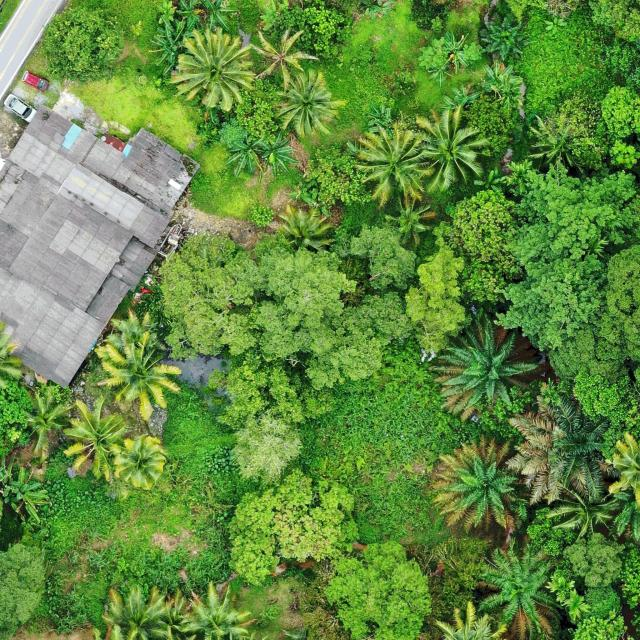Tree: (228, 467, 359, 587), (507, 374, 613, 504), (162, 229, 257, 363), (311, 538, 434, 638), (251, 245, 356, 362), (432, 323, 541, 425), (303, 293, 412, 392), (207, 348, 338, 426), (470, 535, 562, 640), (430, 438, 527, 536), (440, 190, 523, 300), (403, 247, 472, 358), (96, 330, 182, 417), (344, 127, 429, 211), (408, 106, 489, 193), (41, 2, 125, 84), (171, 28, 253, 112), (61, 397, 131, 482), (543, 471, 625, 541), (230, 413, 304, 488), (248, 23, 320, 93), (272, 70, 346, 138), (174, 583, 255, 640), (350, 224, 418, 291), (271, 5, 352, 58), (303, 145, 371, 208), (22, 382, 74, 464), (526, 112, 592, 176), (271, 203, 336, 262), (564, 530, 630, 588), (102, 586, 169, 640), (380, 194, 441, 250), (0, 459, 48, 529), (425, 601, 510, 640), (114, 437, 166, 487), (148, 18, 195, 71), (480, 15, 532, 62), (607, 434, 640, 502), (256, 129, 301, 178), (222, 132, 267, 180), (477, 59, 522, 93), (439, 29, 472, 74), (438, 82, 481, 110), (202, 0, 240, 31), (287, 179, 318, 206), (261, 0, 288, 31), (176, 0, 204, 29), (362, 0, 398, 20), (365, 102, 393, 127), (428, 63, 454, 88)
